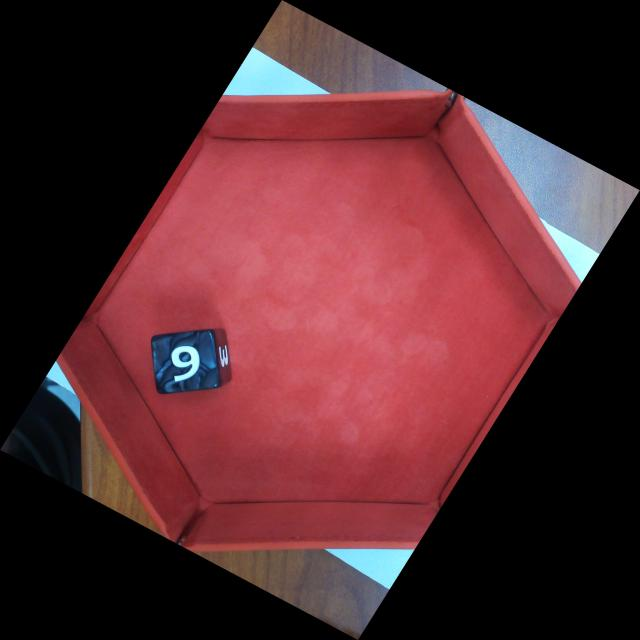dice: (149, 328, 222, 395)
